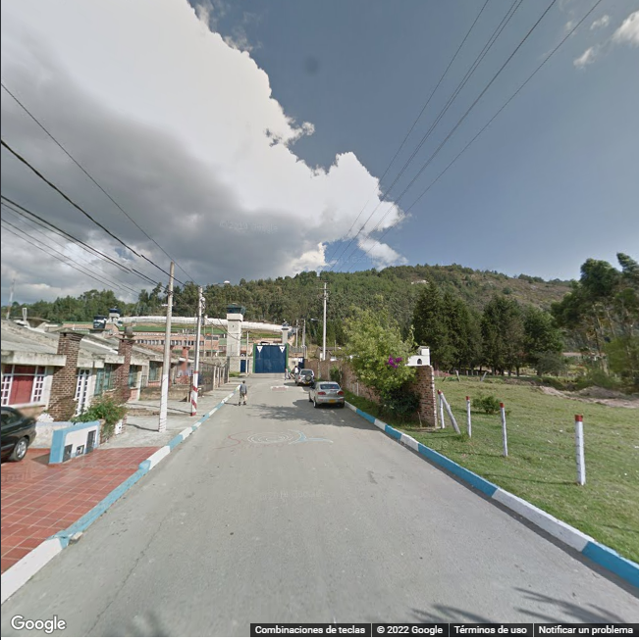D00: (97, 510, 175, 636)
